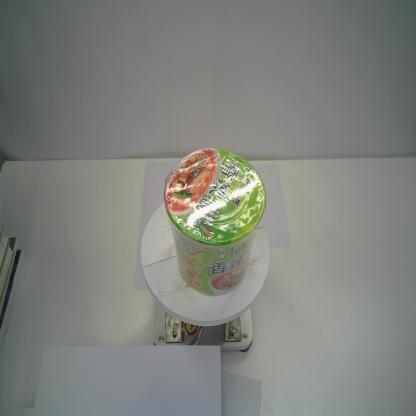Instant Noodles: (164, 147, 268, 297)
